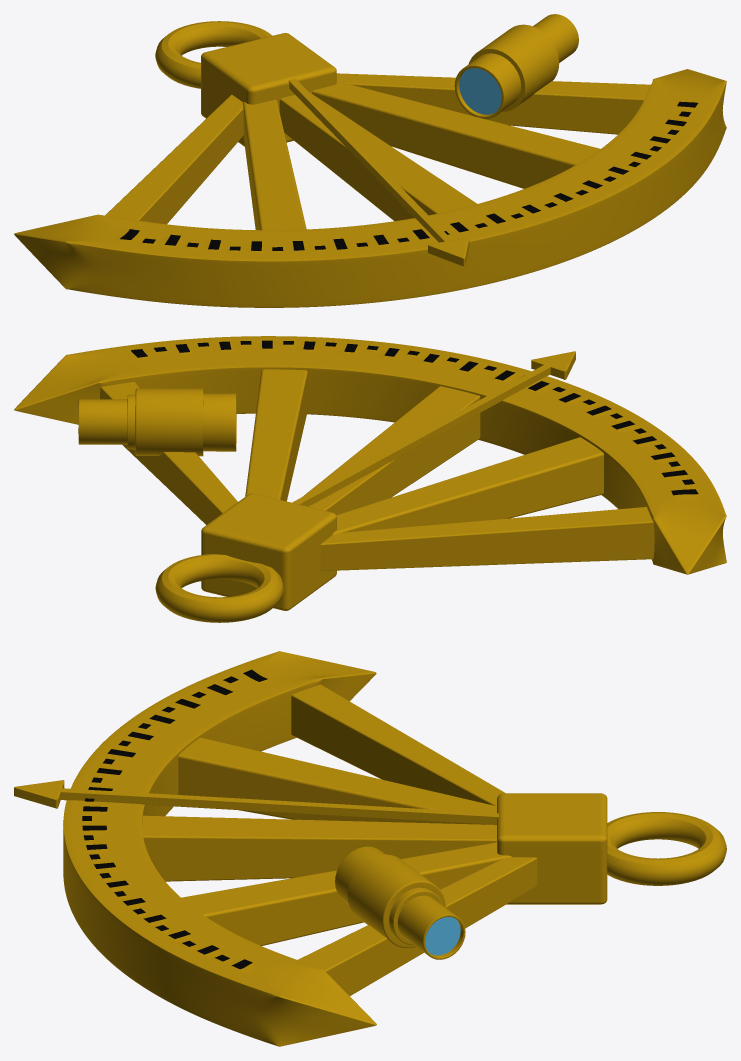
The model's file is sextant.fbx.
3 renders of one model, top to bottom at view 1: azimuth 30°, elevation 25°; view 2: azimuth 150°, elevation 25°; view 3: azimuth 270°, elevation 25°, orthographic. The views are drawn at different scales.
Visible parts, largest first — view 1: Cylinder.001, Cube.002, Cube.004, Cube.001, Cylinder, Cube, Torus, Cube.003, Cube.005; view 2: Cylinder.001, Cube.004, Cube.002, Cube, Cylinder, Cube.001, Torus, Cube.003, Cube.005; view 3: Cylinder.001, Cube.002, Cube.004, Cube.001, Cube, Cylinder, Torus, Cube.003, Cube.005.
Boxes of the visible parts, <box> form: Cylinder.001: <box>14,69,726,307</box>; Cube.002: <box>243,81,600,230</box>; Cube.004: <box>105,73,650,224</box>; Cube.001: <box>279,92,476,221</box>; Cylinder: <box>454,14,578,118</box>; Cube: <box>201,33,336,146</box>; Torus: <box>155,21,272,88</box>; Cube.003: <box>288,78,451,242</box>; Cube.005: <box>428,237,469,266</box>; Cylinder.001: <box>14,336,726,574</box>; Cube.004: <box>100,382,654,571</box>; Cube.002: <box>245,369,603,535</box>; Cube: <box>201,493,336,610</box>; Cylinder: <box>78,388,236,456</box>; Cube.001: <box>302,386,480,514</box>; Torus: <box>155,554,283,622</box>; Cube.003: <box>292,364,550,506</box>; Cube.005: <box>531,351,575,379</box>; Cylinder.001: <box>63,651,376,1046</box>; Cube.002: <box>178,737,512,945</box>; Cube.004: <box>291,684,537,995</box>; Cube.001: <box>142,815,496,881</box>; Cube: <box>497,793,607,904</box>; Cylinder: <box>335,846,465,959</box>; Torus: <box>607,812,726,885</box>; Cube.003: <box>60,788,498,824</box>; Cube.005: <box>14,780,64,808</box>.
Size of the model in its own units: 1515 by 209 by 1294.
